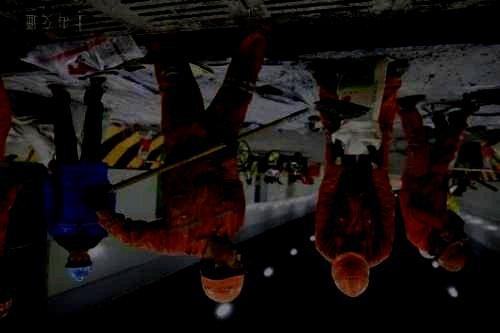helmet: (198, 239, 245, 303), (330, 252, 370, 298), (435, 232, 467, 271), (63, 250, 93, 282)
